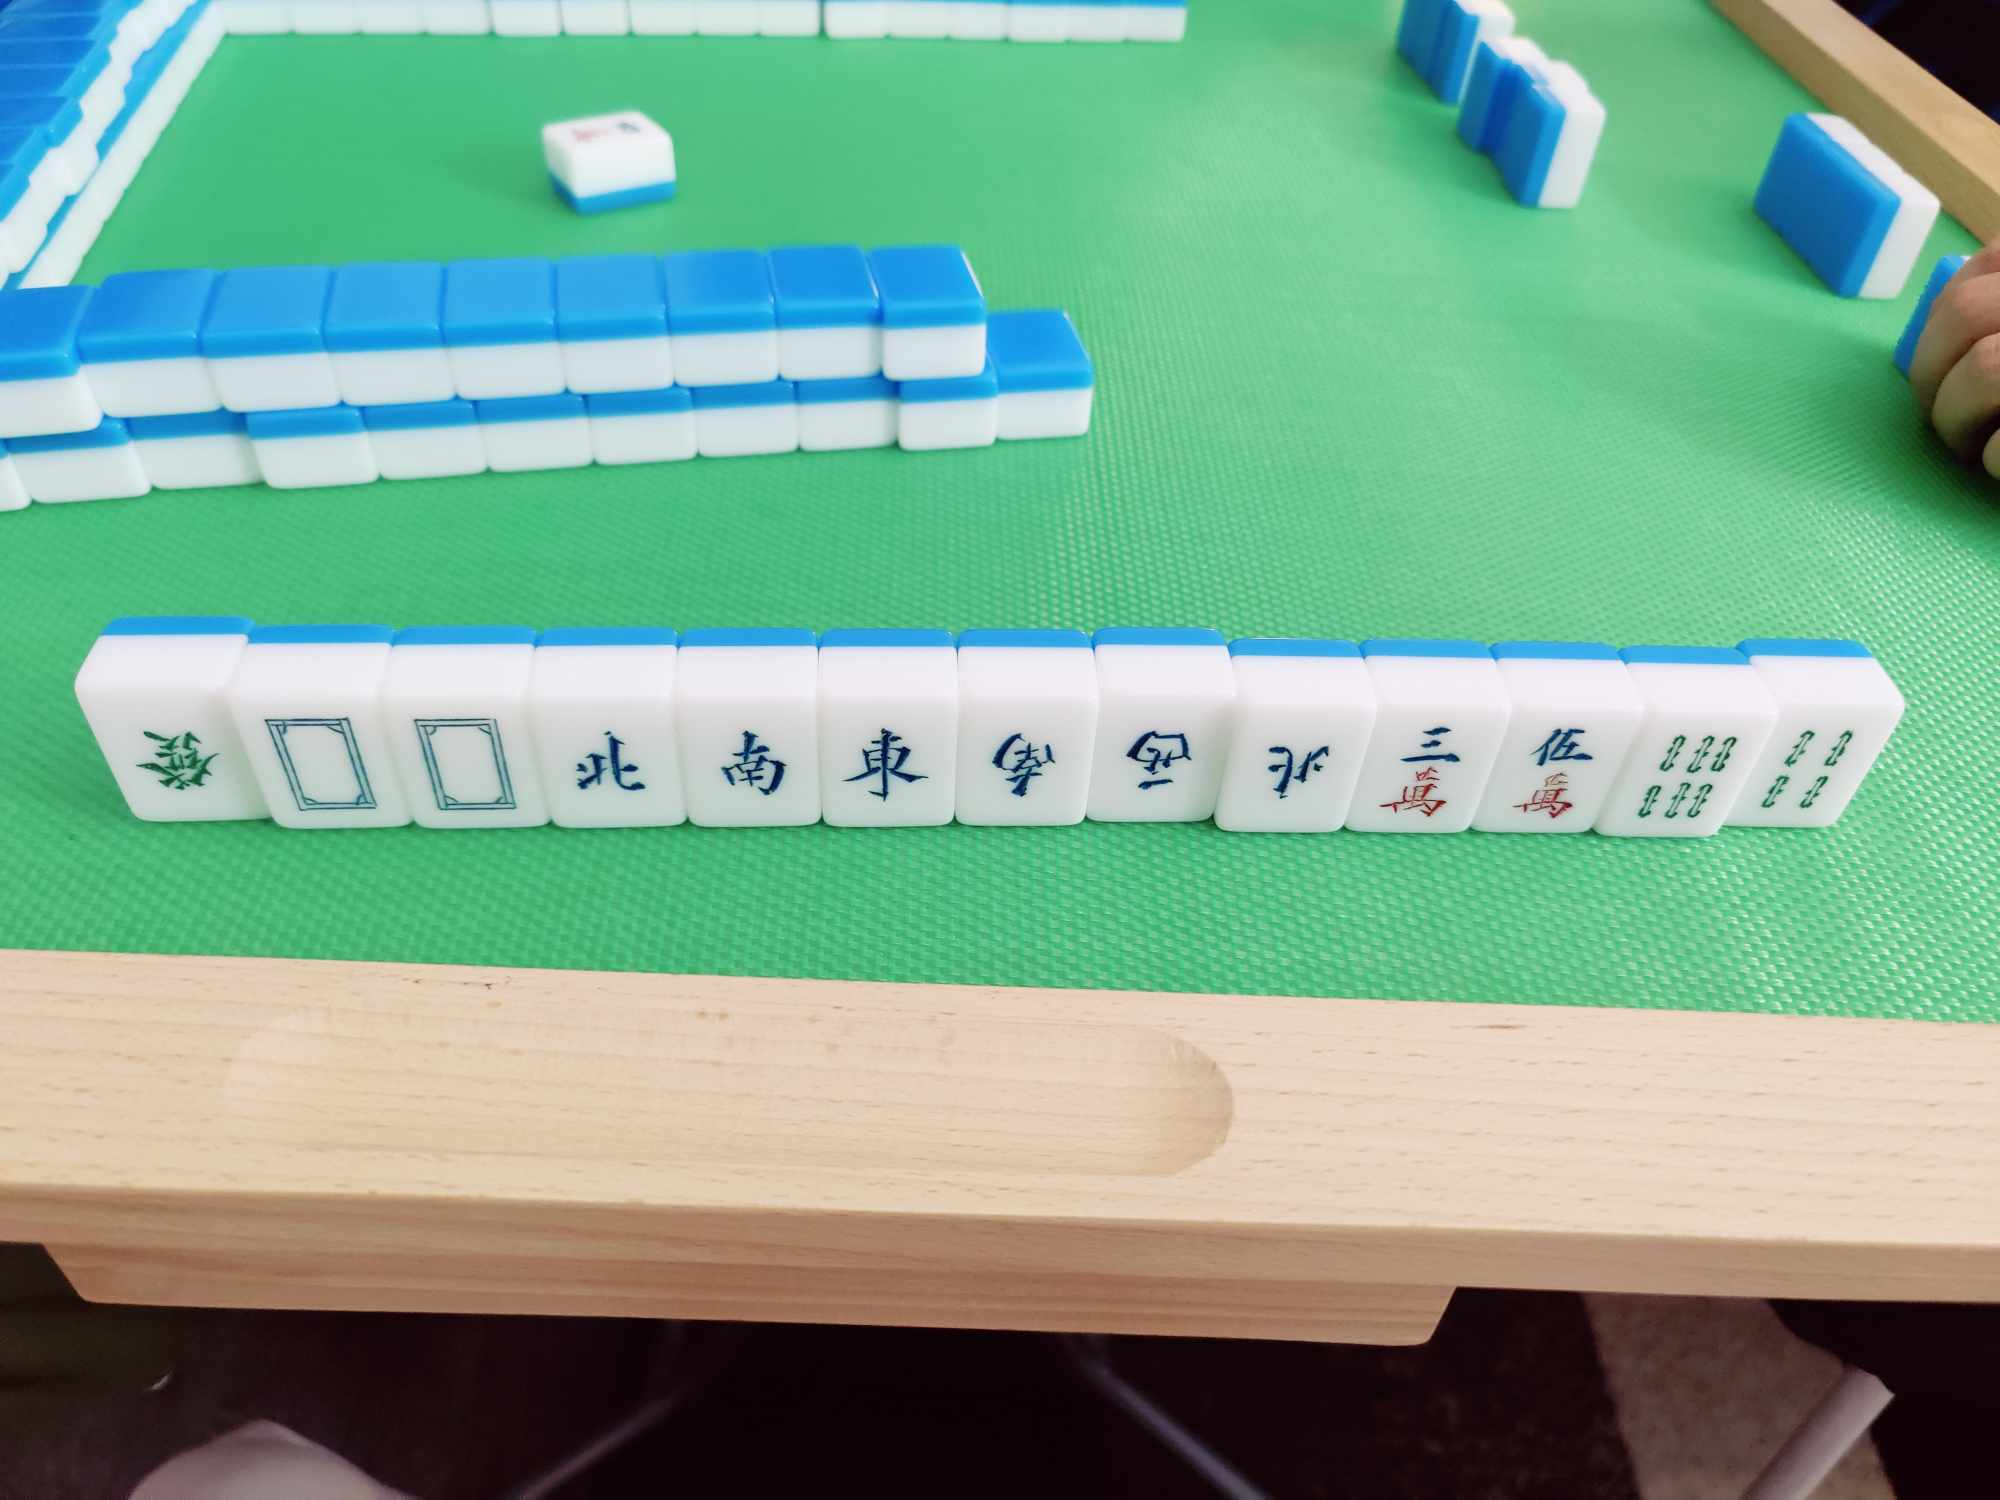bamboo-four: (1754, 726, 1857, 815)
bamboo-six: (1633, 723, 1743, 822)
character-five: (1510, 717, 1598, 829)
character-three: (1380, 718, 1469, 827)
honor-blue_dragon: (398, 707, 523, 826), (257, 711, 381, 822)
honor-east_wind: (838, 714, 932, 818)
honor-green_dragon: (131, 718, 230, 815)
honor-north_wind: (550, 712, 657, 815), (1258, 723, 1339, 821)
honor-south_wind: (691, 714, 803, 821), (980, 718, 1066, 819)
honor-west_wind: (1115, 715, 1202, 818)
